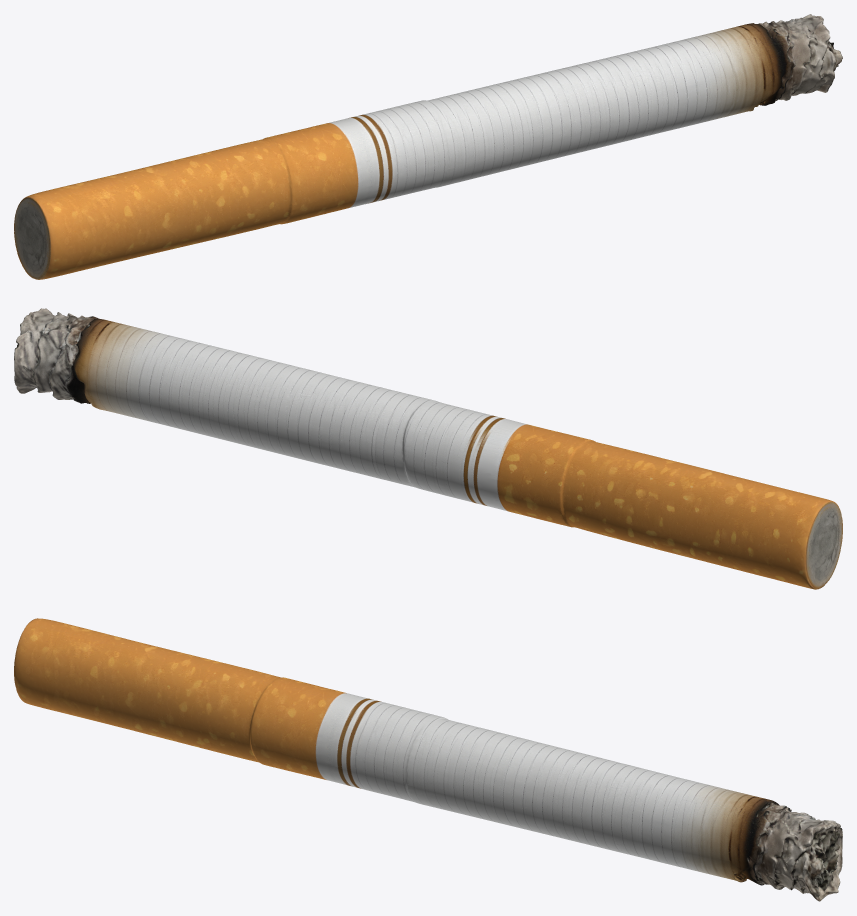
Rendered from cigerette.glb.
3 views of the same model, one above another, from view 1: azimuth 30°, elevation 25°; view 2: azimuth 150°, elevation 25°; view 3: azimuth 330°, elevation 25° (orthographic).
Size of the model in its own units: 1.9 by 0.1854 by 0.184.
Materials: 1 (1 with a texture image).
